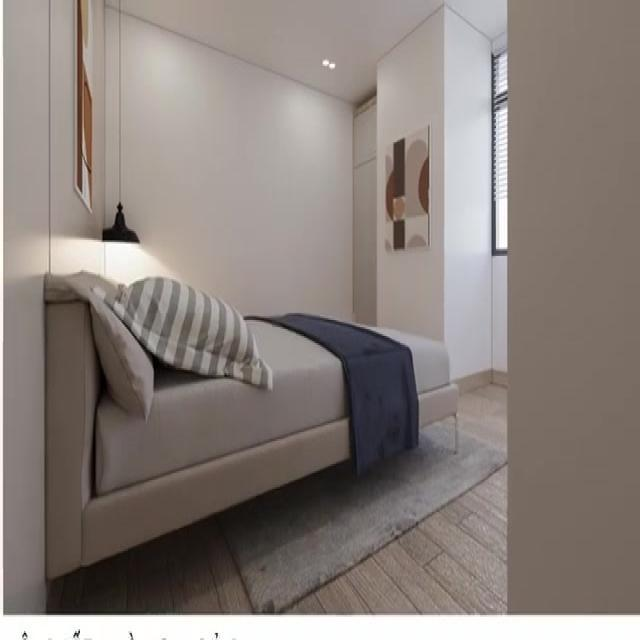obstacle: (43, 268, 459, 582)
